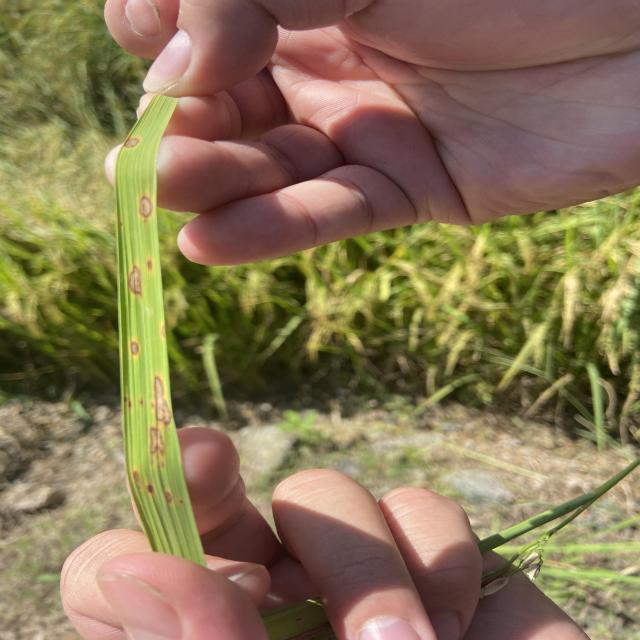Dao on: (157, 378, 170, 425), (129, 265, 144, 300), (153, 428, 164, 454), (141, 197, 152, 217), (125, 137, 141, 148), (130, 340, 139, 356), (135, 471, 141, 490), (165, 491, 173, 504), (148, 484, 153, 493), (148, 259, 152, 269), (160, 460, 164, 470), (124, 395, 127, 402), (140, 398, 143, 405)
